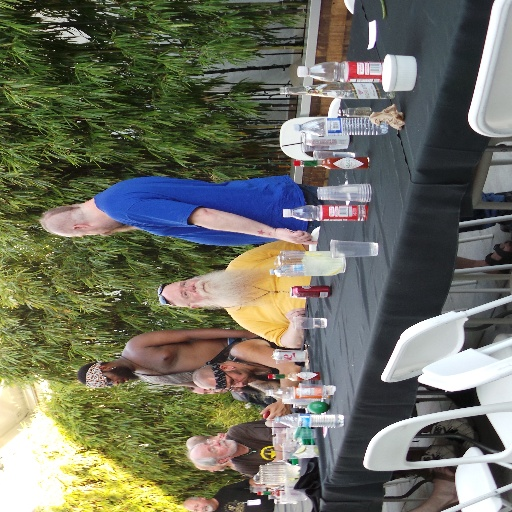hand: (256, 398, 290, 424), (270, 225, 309, 243), (283, 306, 306, 327), (242, 329, 259, 340)
